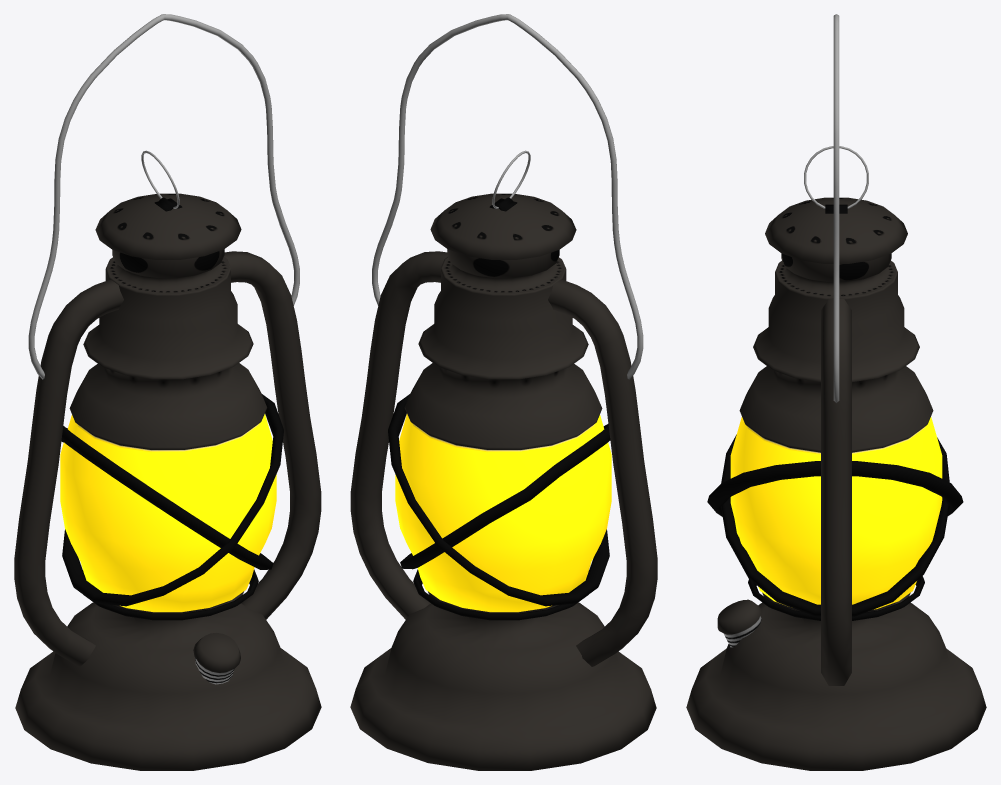
File: hand_lamp.glb
3 views of the same model, side by side, from view 1: azimuth 30°, elevation 25°; view 2: azimuth 150°, elevation 25°; view 3: azimuth 270°, elevation 25° (orthographic).
Parts seen in each view (by area): view 1: LampJoined_Low; view 2: LampJoined_Low; view 3: LampJoined_Low.
Part boxes in pixels (x1,y1,x2,y2): LampJoined_Low: [14, 14, 321, 770]; LampJoined_Low: [350, 14, 657, 770]; LampJoined_Low: [686, 14, 986, 770].
Bounding box in the file's own units: 40.63 × 90.21 × 35.63.
1 material, 1 textured.
